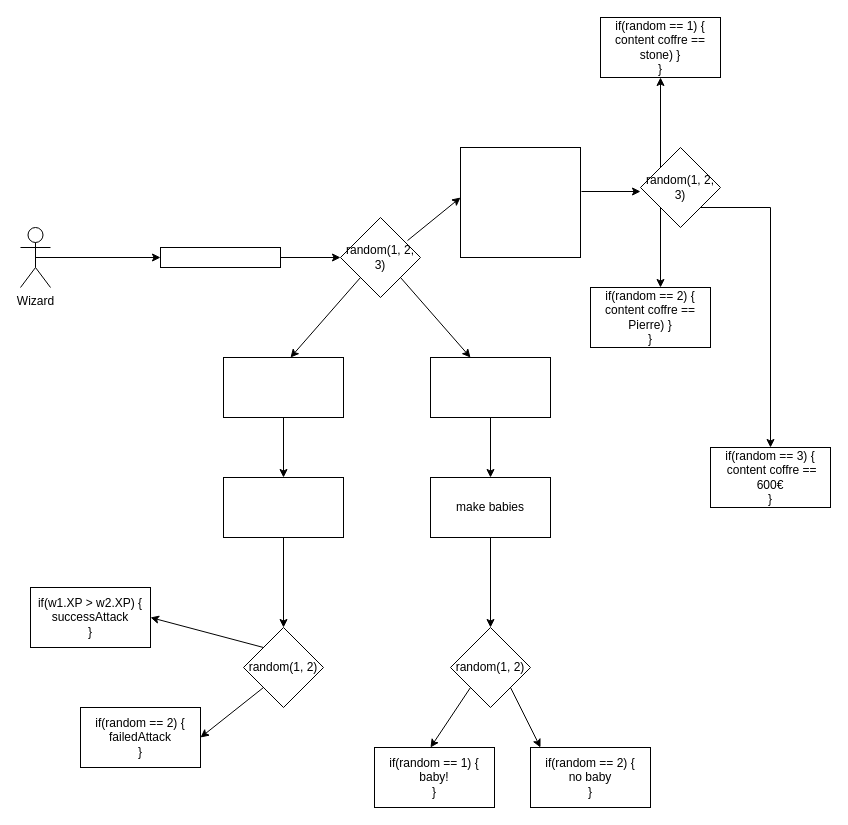
Some shapes in this 848 by 825 pixel diagram are drawn without their labels. Here are the shapes that lost their labels. From the top down, the box of each, then its label:
(460, 146, 580, 258): if(random == 3) { wizard enters to house and opens coffre) }
(160, 246, 280, 268): meets or see house
(222, 356, 344, 418): if(random == 1) { male wizard }
(430, 356, 550, 418): if(random == 2) { female wizard }
(222, 476, 344, 538): fight
